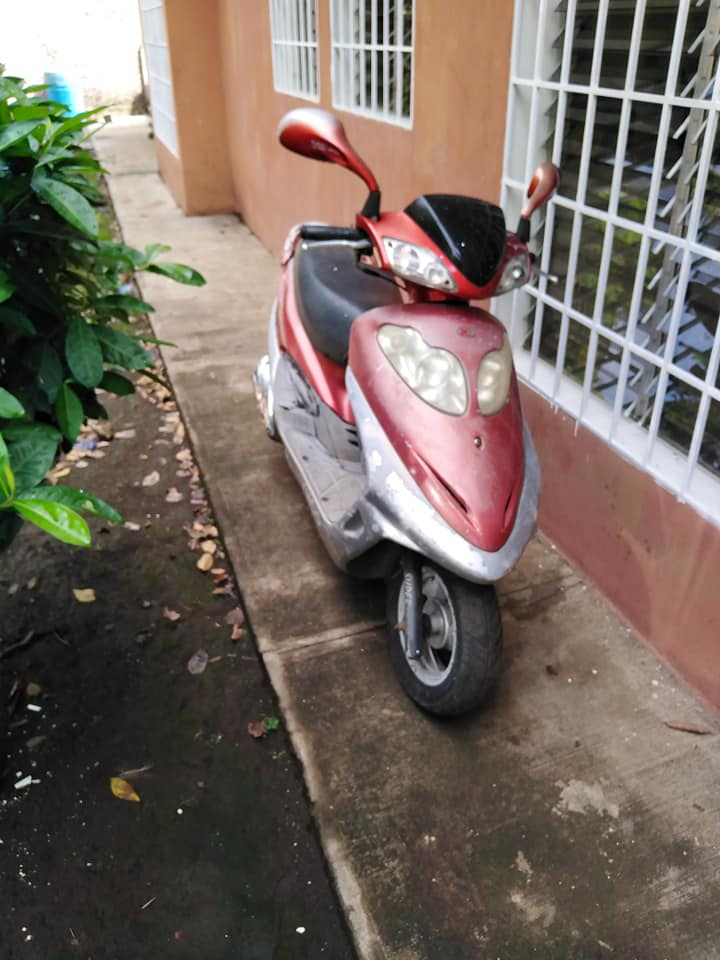moto: (239, 104, 563, 747)
